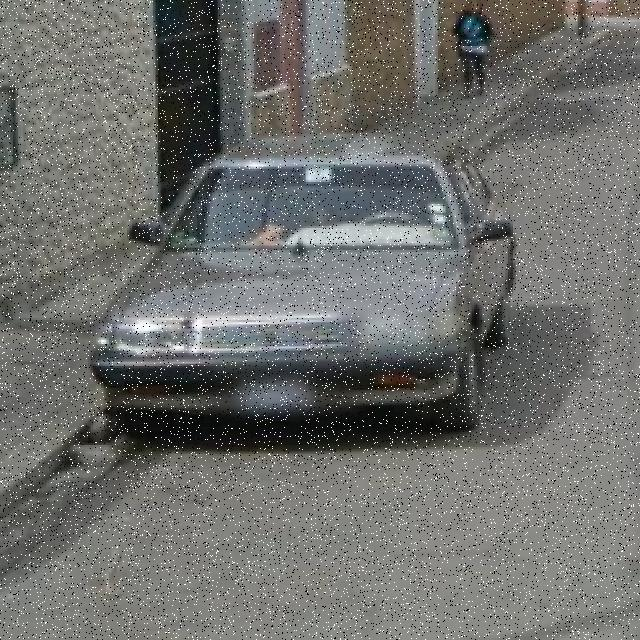cars: (94, 138, 508, 448)
